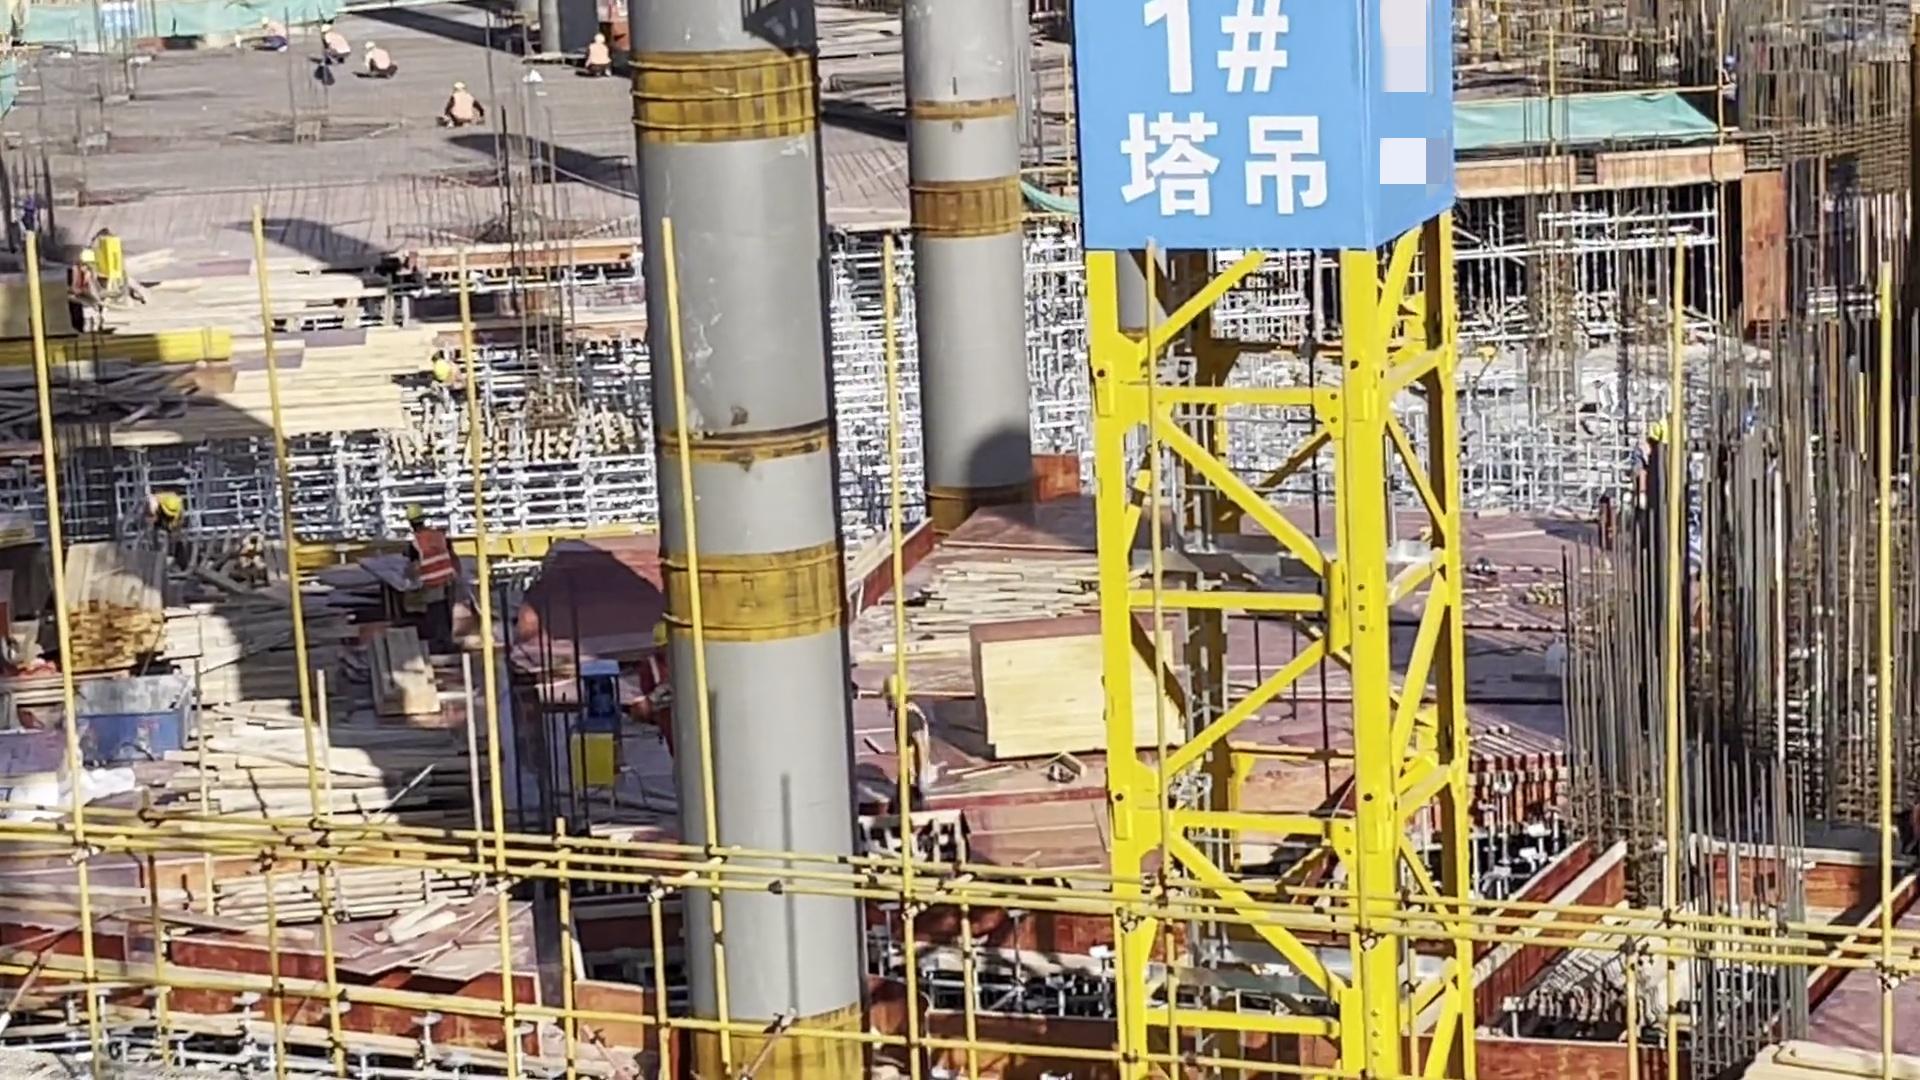board: (961, 609, 1197, 773), (1, 270, 68, 345)
helmet: (885, 668, 913, 705), (648, 619, 674, 656), (158, 487, 187, 518), (432, 357, 457, 385), (407, 502, 427, 528), (78, 249, 98, 267), (453, 79, 468, 93), (590, 31, 607, 43), (364, 39, 376, 52)
hopper: (63, 667, 194, 766)
person: (879, 669, 945, 819), (647, 627, 700, 791), (400, 498, 461, 624), (130, 483, 197, 561), (59, 248, 104, 358), (420, 351, 479, 426), (434, 74, 486, 140), (356, 36, 405, 93), (320, 15, 352, 76), (581, 31, 619, 81)
slogan: (1083, 1, 1434, 252)
vest: (896, 699, 943, 801), (404, 524, 459, 589), (70, 265, 94, 319), (449, 92, 475, 126), (586, 43, 612, 73)
wood: (188, 713, 473, 824), (70, 534, 166, 684), (361, 623, 440, 720)
